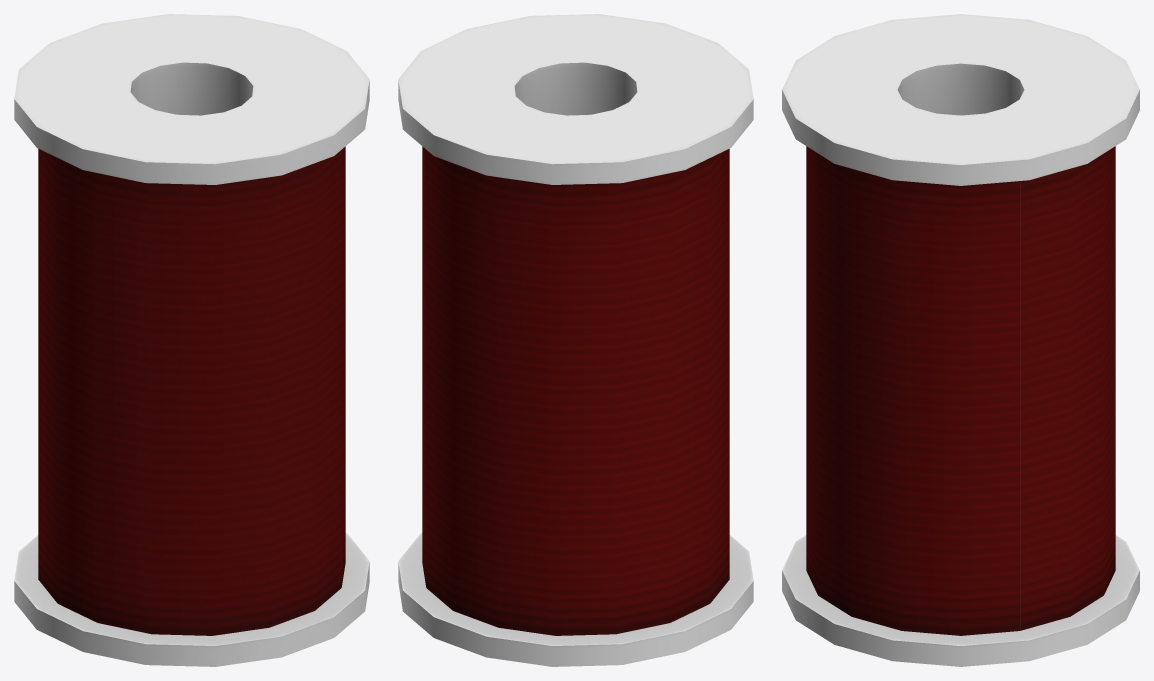
The model's file is thread_01.fbx.
3 views of the same model, side by side, from view 1: azimuth 30°, elevation 25°; view 2: azimuth 150°, elevation 25°; view 3: azimuth 270°, elevation 25° (orthographic).
Parts seen in each view (by area): view 1: thread_01; view 2: thread_01; view 3: thread_01.
Part boxes in pixels (<box>): thread_01: <box>14,14,369,666</box>; thread_01: <box>398,14,753,666</box>; thread_01: <box>782,14,1139,666</box>.
Bounding box in the file's own units: 8.4 × 13 × 8.4.
